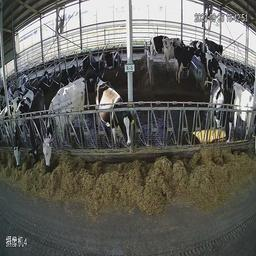cow: (44, 77, 86, 169), (44, 76, 86, 167), (93, 79, 132, 154), (94, 79, 132, 153), (206, 78, 231, 146), (207, 79, 230, 147), (14, 89, 31, 170), (199, 50, 228, 96), (27, 87, 42, 162), (173, 44, 195, 83), (149, 35, 173, 66), (164, 37, 185, 70), (84, 59, 101, 91), (204, 37, 223, 63), (103, 49, 120, 70)
